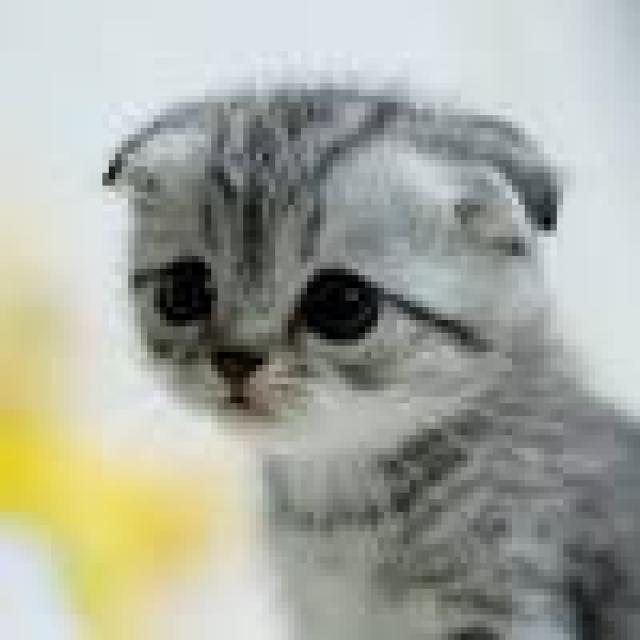cat-face: (74, 31, 583, 518)
